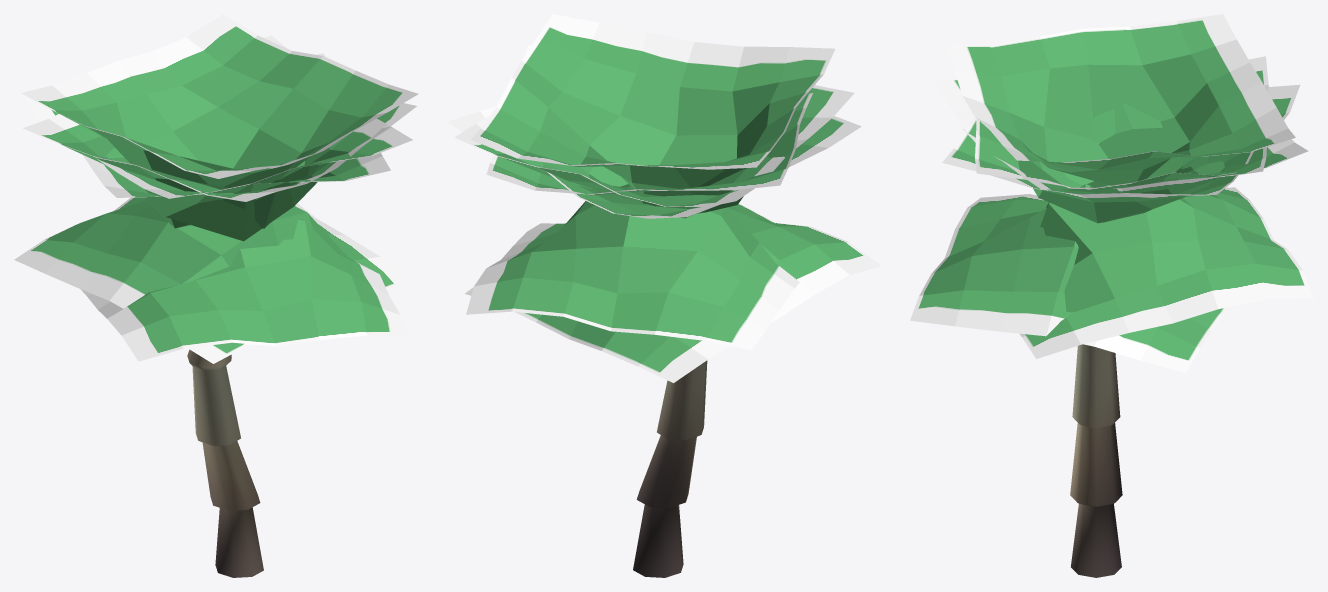
Rendered from Tree5.fbx.
The picture shows the model from 3 angles, left to right: view 1: azimuth 30°, elevation 25°; view 2: azimuth 150°, elevation 25°; view 3: azimuth 270°, elevation 25°; orthographic projection. The views are drawn at different scales.
Parts seen in each view (by area): view 1: Cylinder.002; view 2: Cylinder.002; view 3: Cylinder.002.
Part boxes in pixels (x1,y1,x2,y2): Cylinder.002: (14, 14, 418, 577); Cylinder.002: (447, 14, 881, 577); Cylinder.002: (910, 14, 1313, 577).
Bounding box in the file's own units: 324 × 456 × 350.
